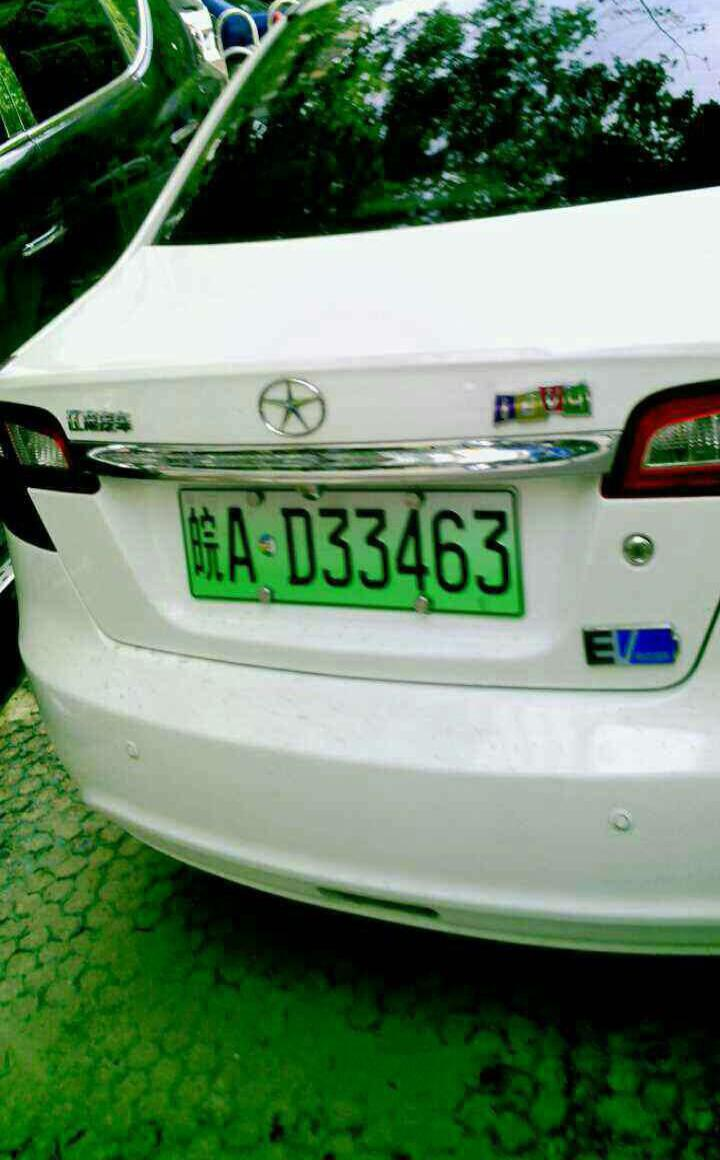car_id: (178, 484, 527, 604)
